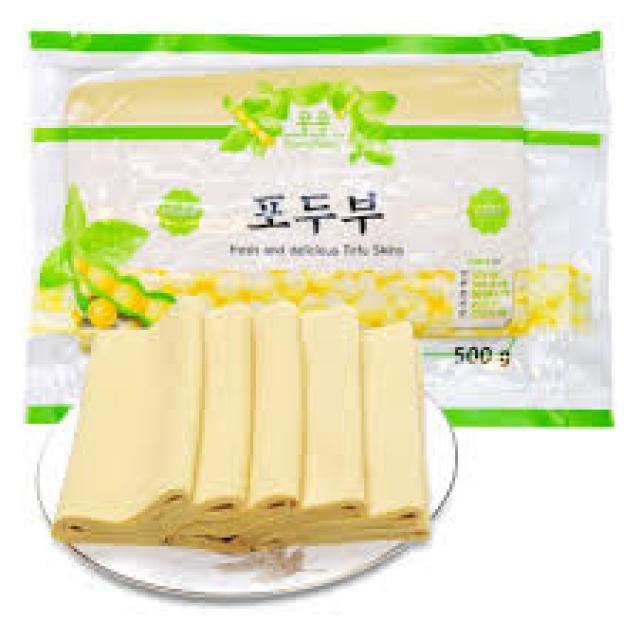tofu: (57, 288, 207, 533)
